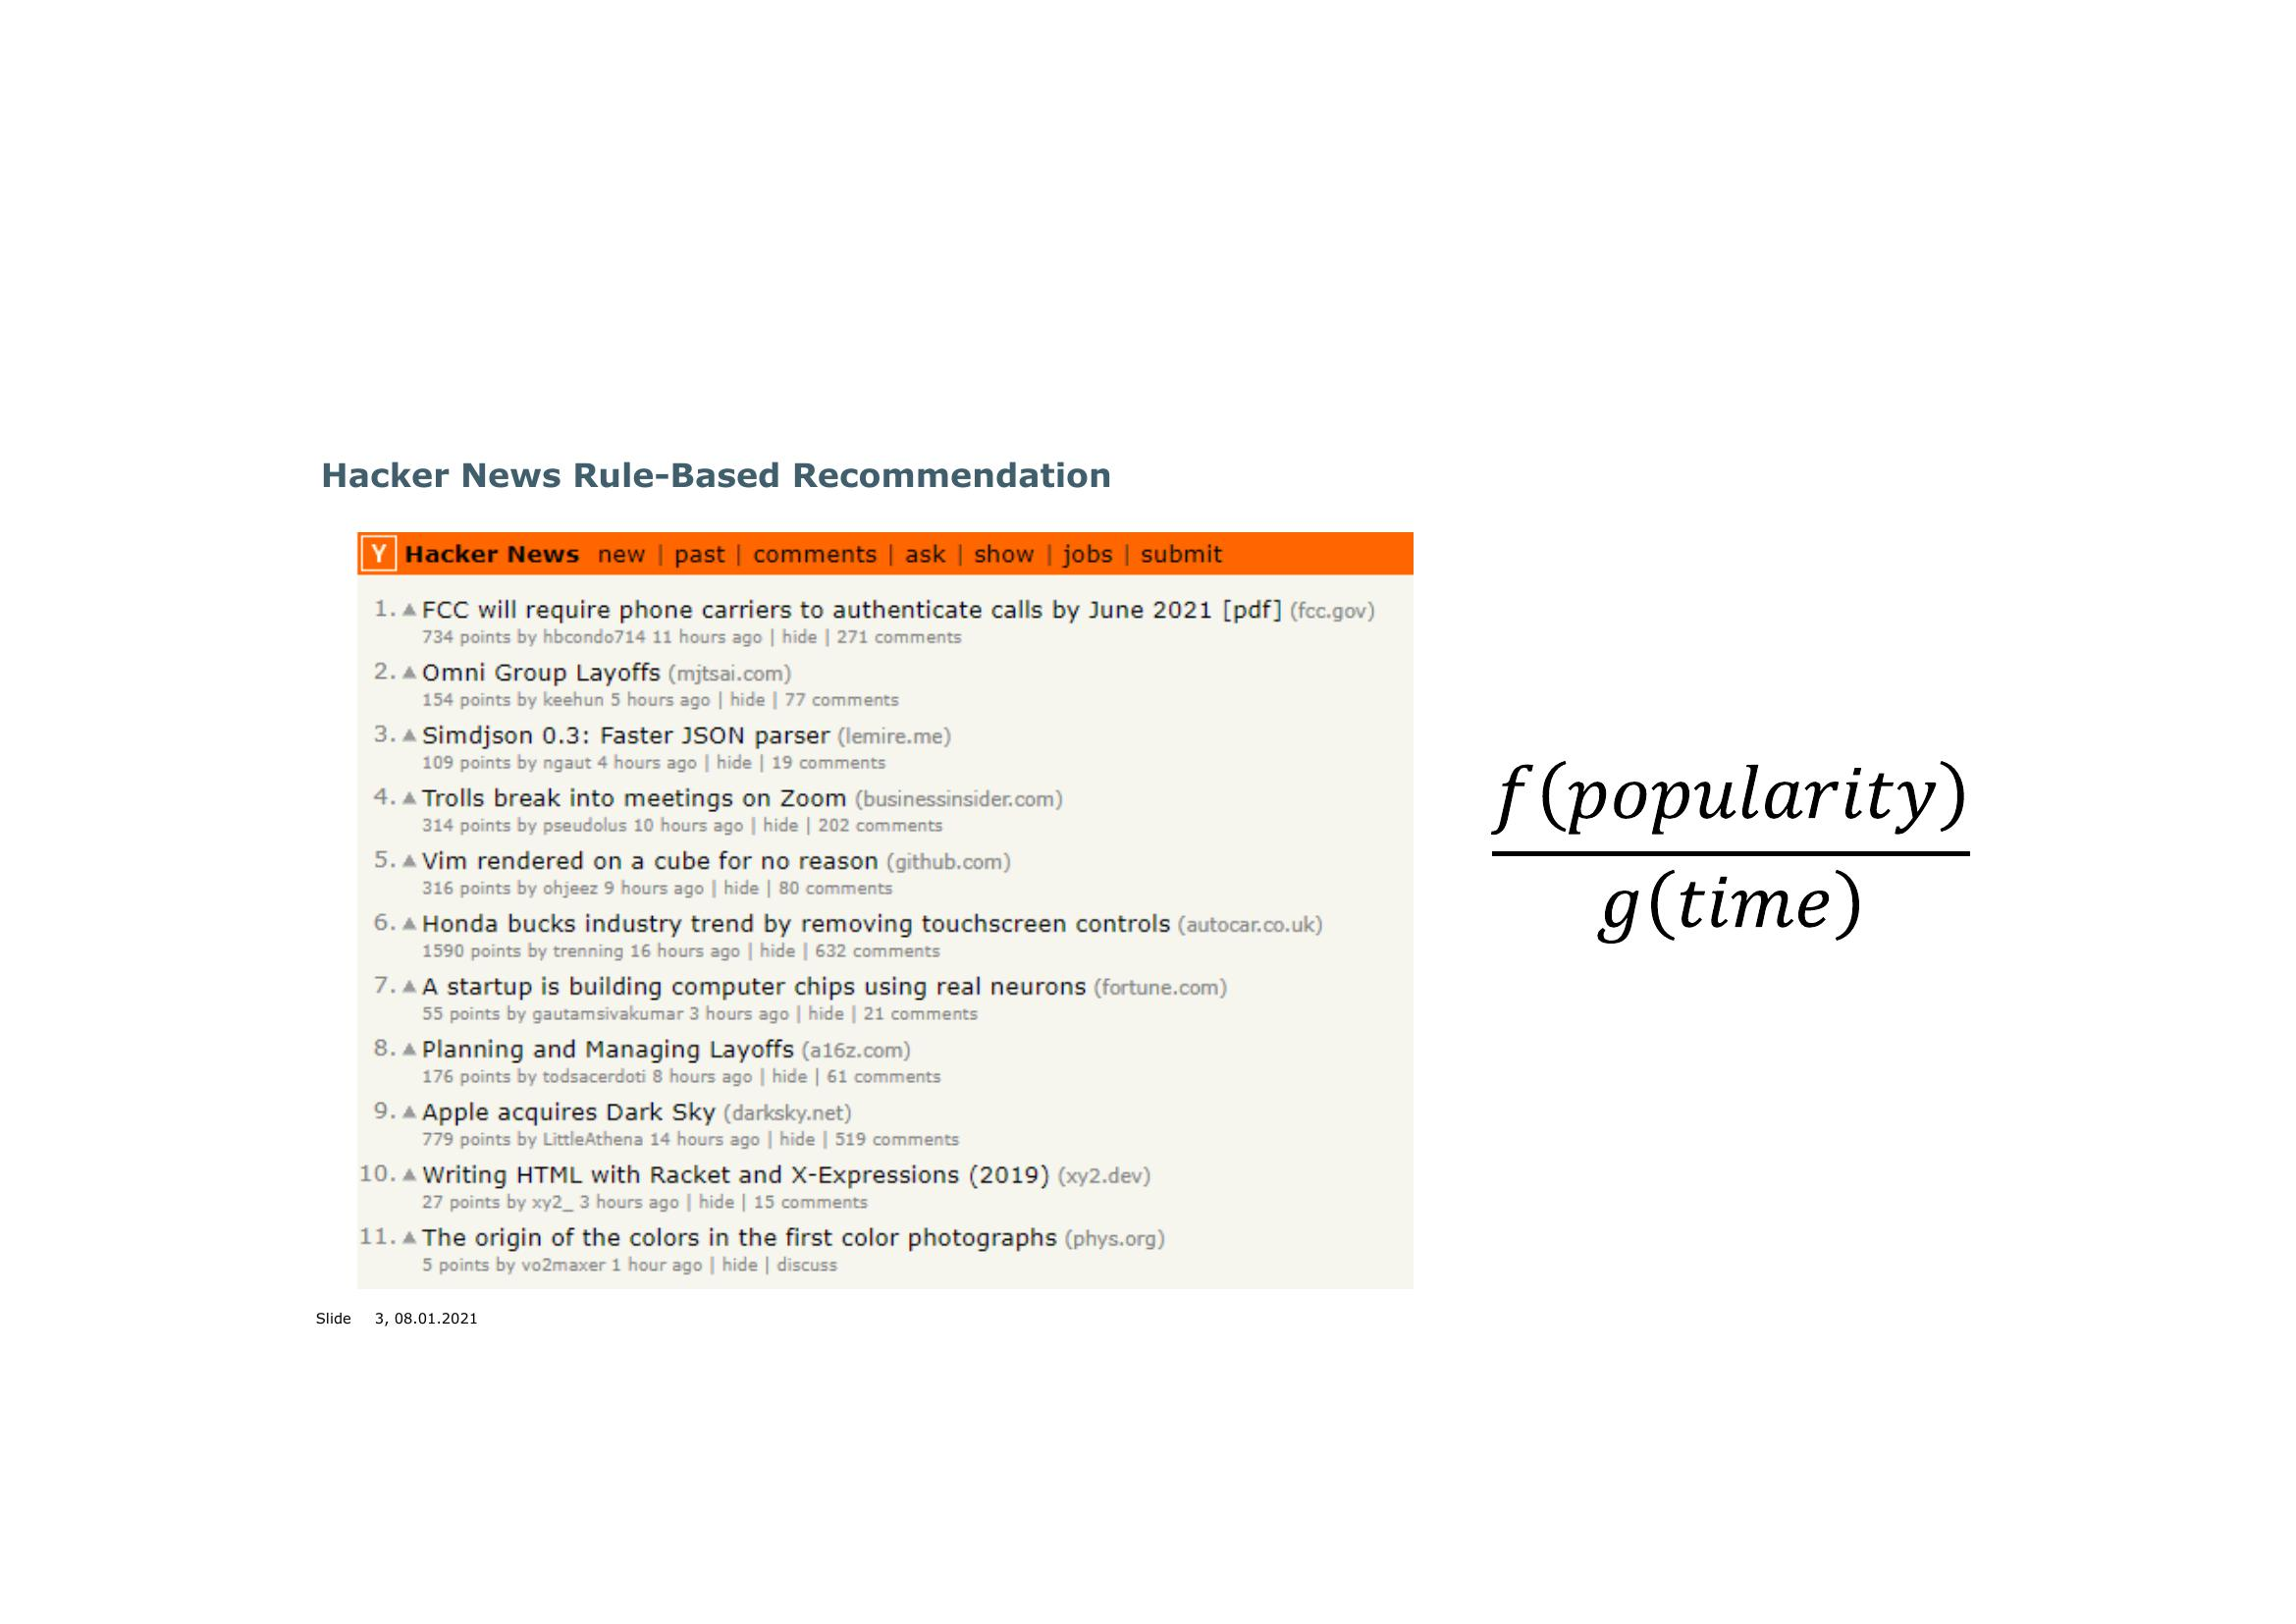Title: (286, 441, 1126, 515)
